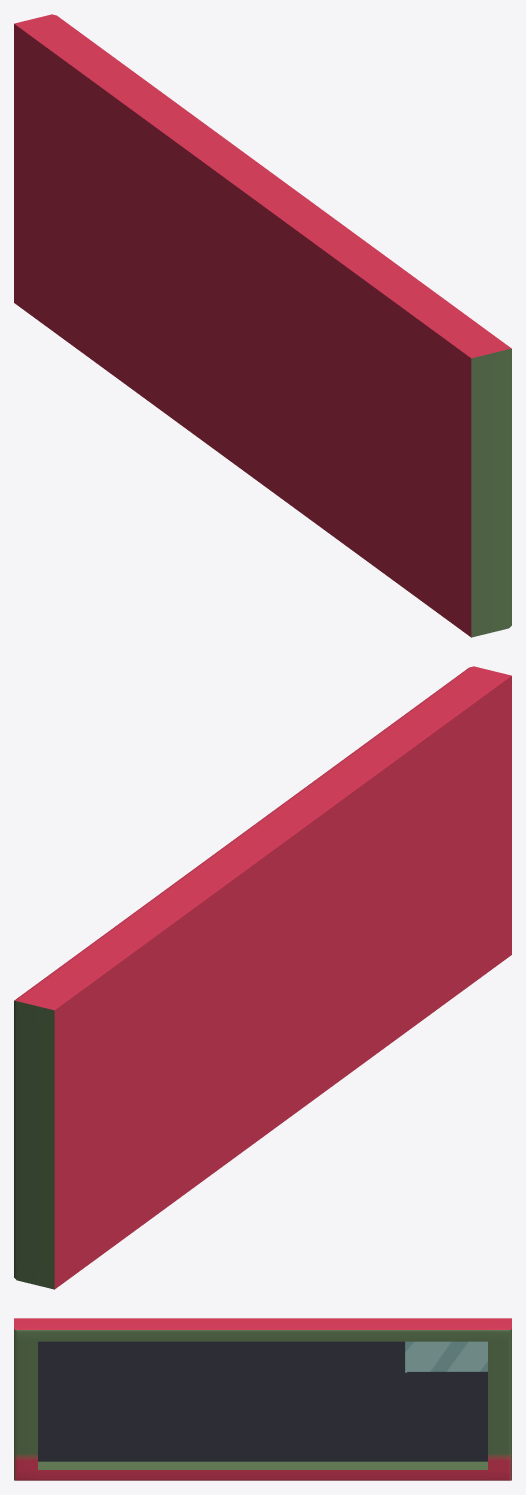
Rendered from BuildingSign_24.fbx.
The picture shows the model from 3 angles, top to bottom: view 1: azimuth 30°, elevation 25°; view 2: azimuth 150°, elevation 25°; view 3: azimuth 270°, elevation 25°; orthographic projection. The views are drawn at different scales.
Visible parts, largest first — view 1: polySurface1053; view 2: polySurface1053; view 3: polySurface1053.
Boxes of the visible parts, <box> form: polySurface1053: <box>14,14,511,637</box>; polySurface1053: <box>14,666,511,1289</box>; polySurface1053: <box>14,1318,511,1480</box>.
Bounding box in the file's own units: 0.3507 × 2.16 × 6.42.
